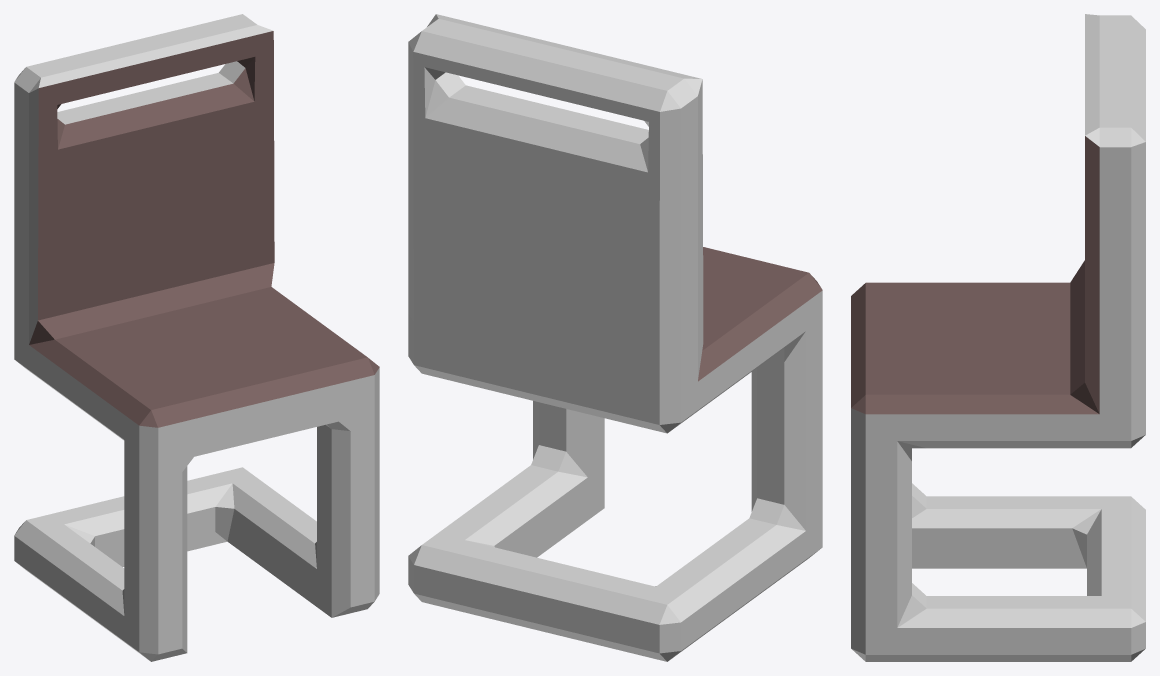
The model's file is BasicChair.fbx.
3 views of the same model, side by side, from view 1: azimuth 30°, elevation 25°; view 2: azimuth 150°, elevation 25°; view 3: azimuth 270°, elevation 25° (orthographic). The views are drawn at different scales.
Visible parts, largest first — view 1: ChaiseBasique; view 2: ChaiseBasique; view 3: ChaiseBasique.
Boxes of the visible parts, x1,y1,x2,y2 form: ChaiseBasique: [14, 14, 379, 661]; ChaiseBasique: [408, 14, 822, 661]; ChaiseBasique: [851, 14, 1145, 661].
Size of the model in its own units: 50 by 100 by 50.
